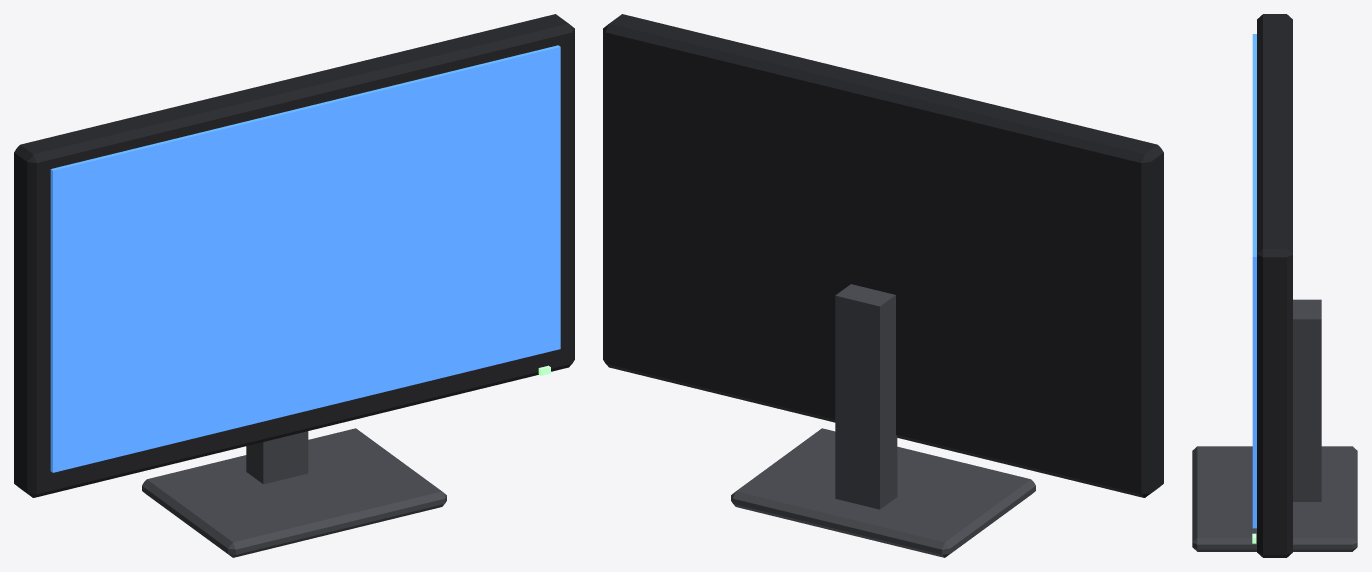
Rendered from monitor.glb.
3 views of the same model, side by side, from view 1: azimuth 30°, elevation 25°; view 2: azimuth 150°, elevation 25°; view 3: azimuth 270°, elevation 25° (orthographic). The views are drawn at different scales.
Visible parts, largest first — view 1: monitor_screen, monitor; view 2: monitor; view 3: monitor, monitor_screen.
Part boxes in pixels (left/top/right/bottom): monitor_screen: left=50, top=45, right=560, bottom=472; monitor: left=14, top=14, right=574, bottom=557; monitor: left=603, top=14, right=1163, bottom=557; monitor: left=1192, top=14, right=1357, bottom=557; monitor_screen: left=1252, top=34, right=1256, bottom=528.
Size of the model in its own units: 0.55 by 0.4 by 0.16.
Materials: 3 (1 with a texture image).
